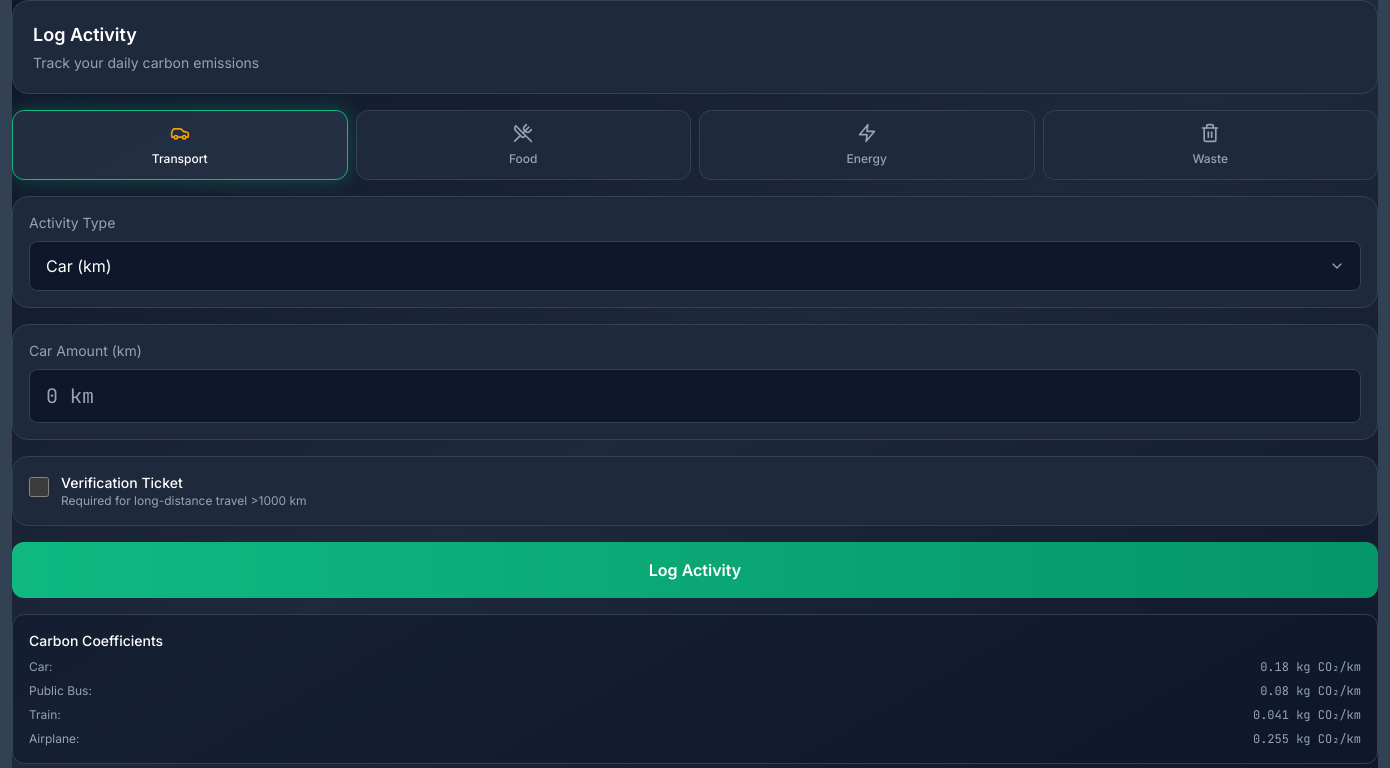
ActivityLogger – Submission › shows success message after successful submission
The width and height of the screenshot is (1390, 768).
In the number field: (695, 396) top-left (29, 369), bottom-right (1361, 423), type "25"
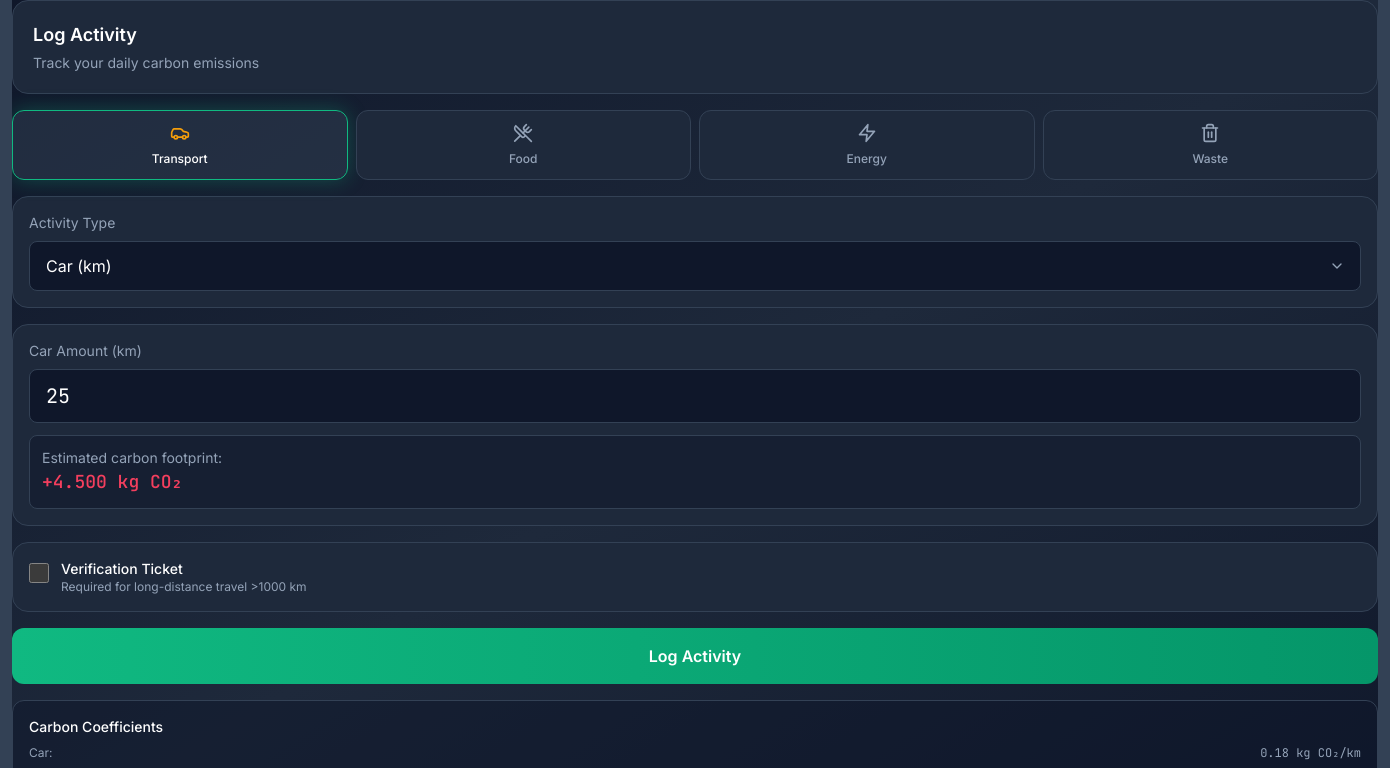
Click the button with aria-label "log this activity": (695, 656) top-left (12, 628), bottom-right (1378, 684)
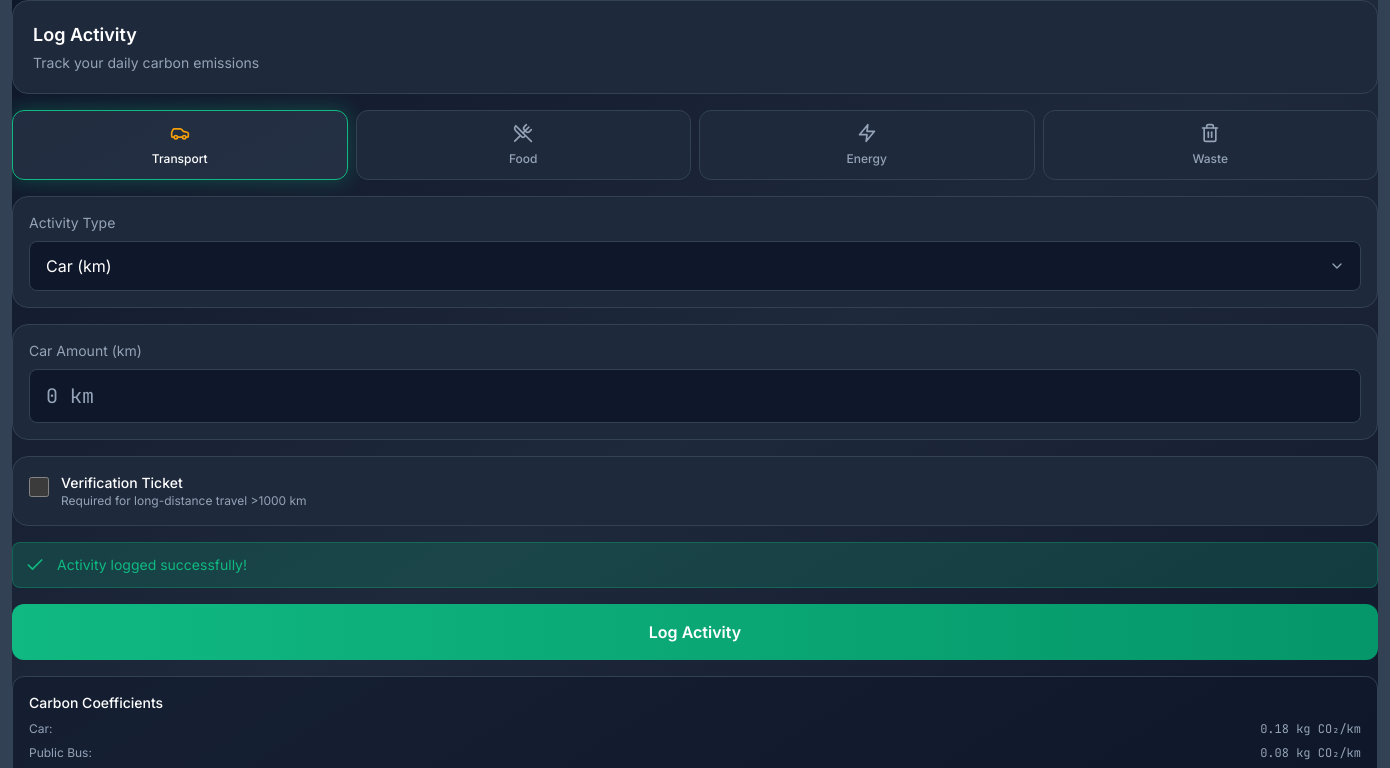
expect the text "Activity logged successfully!" is shown: met, box top-left (57, 555), bottom-right (247, 575)
